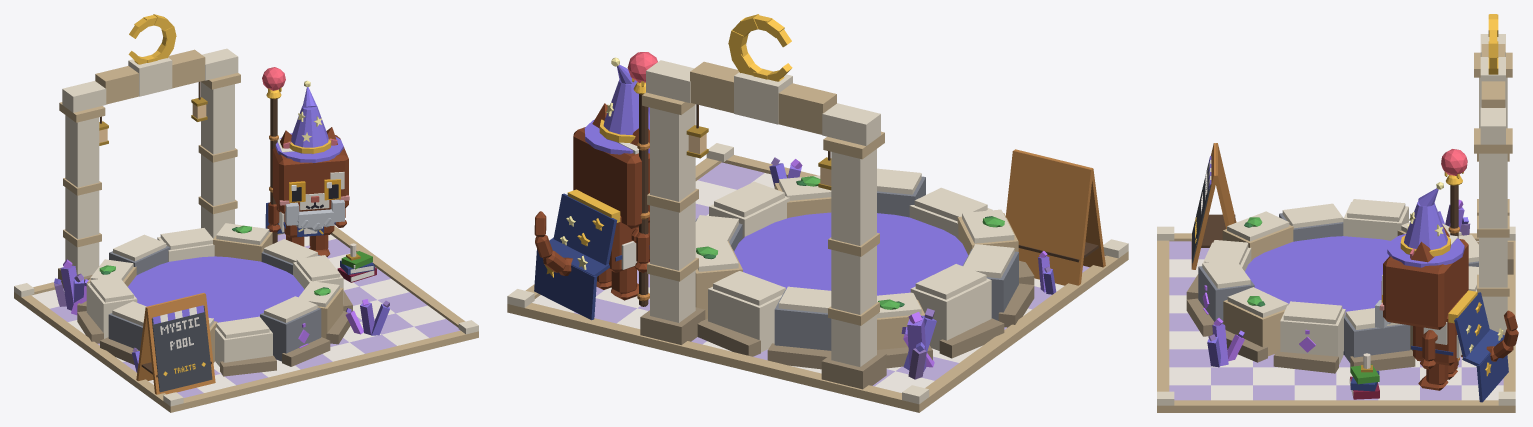
Rendered from CatCafe_Camp_Park_MysticPool.glb.
The picture shows the model from 3 angles, left to right: view 1: azimuth 30°, elevation 25°; view 2: azimuth 150°, elevation 25°; view 3: azimuth 270°, elevation 25°; orthographic projection. The views are drawn at different scales.
Visible parts, largest first — view 1: CatCafe_Camp_Park_MysticPool, CatCafe_Camp_Park_MysticPool_Liquid_Glow, CatCafe_Camp_Park_MysticPool_Sage_Prop, CatCafe_Camp_Park_MysticPool_Sage_Head, CatCafe_Camp_Park_MysticPool_Sage_Staff, CatCafe_Camp_Park_MysticPool_Sage_Body; view 2: CatCafe_Camp_Park_MysticPool, CatCafe_Camp_Park_MysticPool_Liquid_Glow, CatCafe_Camp_Park_MysticPool_Sage_Prop2, CatCafe_Camp_Park_MysticPool_Sage_Head, CatCafe_Camp_Park_MysticPool_Sage_Prop, CatCafe_Camp_Park_MysticPool_Sage_Staff, CatCafe_Camp_Park_MysticPool_Sage_Body, CatCafe_Camp_Park_MysticPool_Sage_Tail, CatCafe_Camp_Park_MysticPool_Sage_LegB2; view 3: CatCafe_Camp_Park_MysticPool, CatCafe_Camp_Park_MysticPool_Liquid_Glow, CatCafe_Camp_Park_MysticPool_Sage_Head, CatCafe_Camp_Park_MysticPool_Sage_Prop2, CatCafe_Camp_Park_MysticPool_Sage_Prop, CatCafe_Camp_Park_MysticPool_Sage_Body, CatCafe_Camp_Park_MysticPool_Sage_Staff, CatCafe_Camp_Park_MysticPool_Sage_Tail, CatCafe_Camp_Park_MysticPool_Sage_LegB1, CatCafe_Camp_Park_MysticPool_Sage_LegF1.
Boxes of the visible parts, x1,y1,x2,y2 form: CatCafe_Camp_Park_MysticPool: [14, 14, 478, 412]; CatCafe_Camp_Park_MysticPool_Liquid_Glow: [128, 256, 304, 322]; CatCafe_Camp_Park_MysticPool_Sage_Prop: [275, 80, 344, 231]; CatCafe_Camp_Park_MysticPool_Sage_Head: [272, 135, 349, 213]; CatCafe_Camp_Park_MysticPool_Sage_Staff: [262, 67, 285, 243]; CatCafe_Camp_Park_MysticPool_Sage_Body: [276, 205, 335, 237]; CatCafe_Camp_Park_MysticPool: [507, 14, 1128, 412]; CatCafe_Camp_Park_MysticPool_Liquid_Glow: [734, 212, 968, 295]; CatCafe_Camp_Park_MysticPool_Sage_Prop2: [534, 189, 620, 320]; CatCafe_Camp_Park_MysticPool_Sage_Head: [573, 127, 649, 228]; CatCafe_Camp_Park_MysticPool_Sage_Prop: [584, 57, 649, 154]; CatCafe_Camp_Park_MysticPool_Sage_Staff: [627, 52, 657, 306]; CatCafe_Camp_Park_MysticPool_Sage_Body: [608, 216, 649, 272]; CatCafe_Camp_Park_MysticPool_Sage_Tail: [534, 211, 572, 275]; CatCafe_Camp_Park_MysticPool_Sage_LegB2: [611, 266, 638, 300]; CatCafe_Camp_Park_MysticPool: [1157, 14, 1515, 412]; CatCafe_Camp_Park_MysticPool_Liquid_Glow: [1245, 236, 1389, 314]; CatCafe_Camp_Park_MysticPool_Sage_Head: [1379, 235, 1468, 329]; CatCafe_Camp_Park_MysticPool_Sage_Prop2: [1448, 290, 1508, 402]; CatCafe_Camp_Park_MysticPool_Sage_Prop: [1375, 182, 1464, 328]; CatCafe_Camp_Park_MysticPool_Sage_Body: [1411, 294, 1464, 365]; CatCafe_Camp_Park_MysticPool_Sage_Staff: [1441, 149, 1467, 365]; CatCafe_Camp_Park_MysticPool_Sage_Tail: [1461, 310, 1518, 361]; CatCafe_Camp_Park_MysticPool_Sage_LegB1: [1418, 363, 1448, 390]; CatCafe_Camp_Park_MysticPool_Sage_LegF1: [1420, 332, 1435, 369].
Size of the model in its own units: 10 by 7.99 by 8.87.
Materials: 1 (1 with a texture image).
